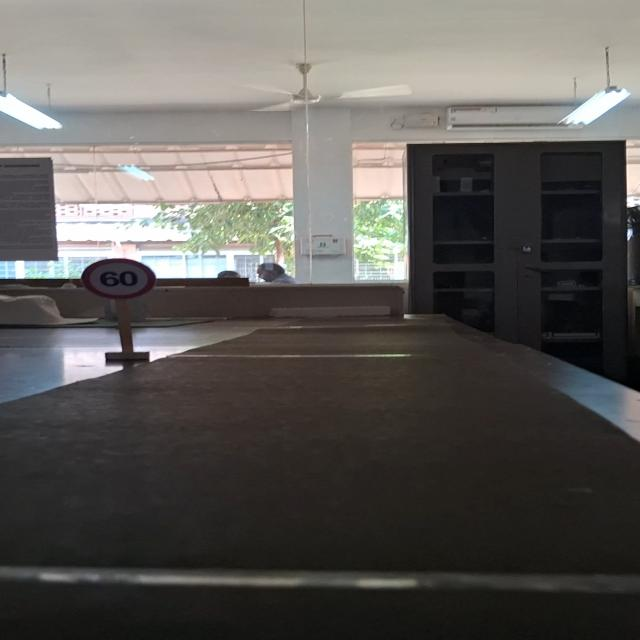Speed60: (78, 257, 158, 300)
